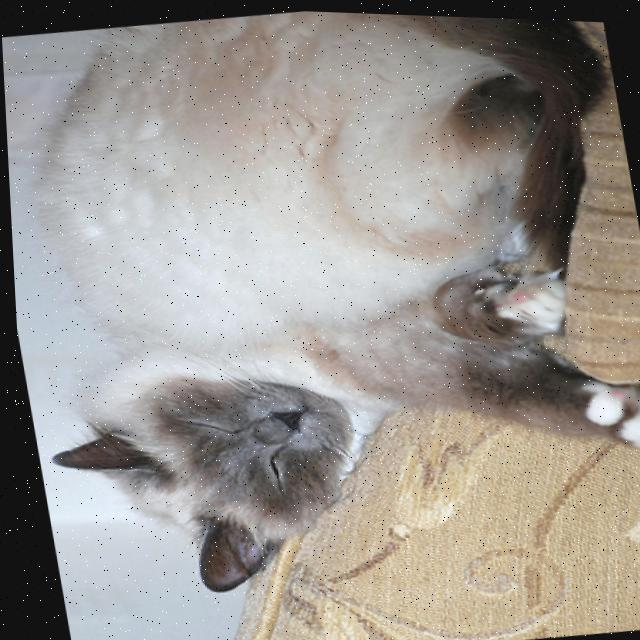Birman: (0, 0, 640, 627)
